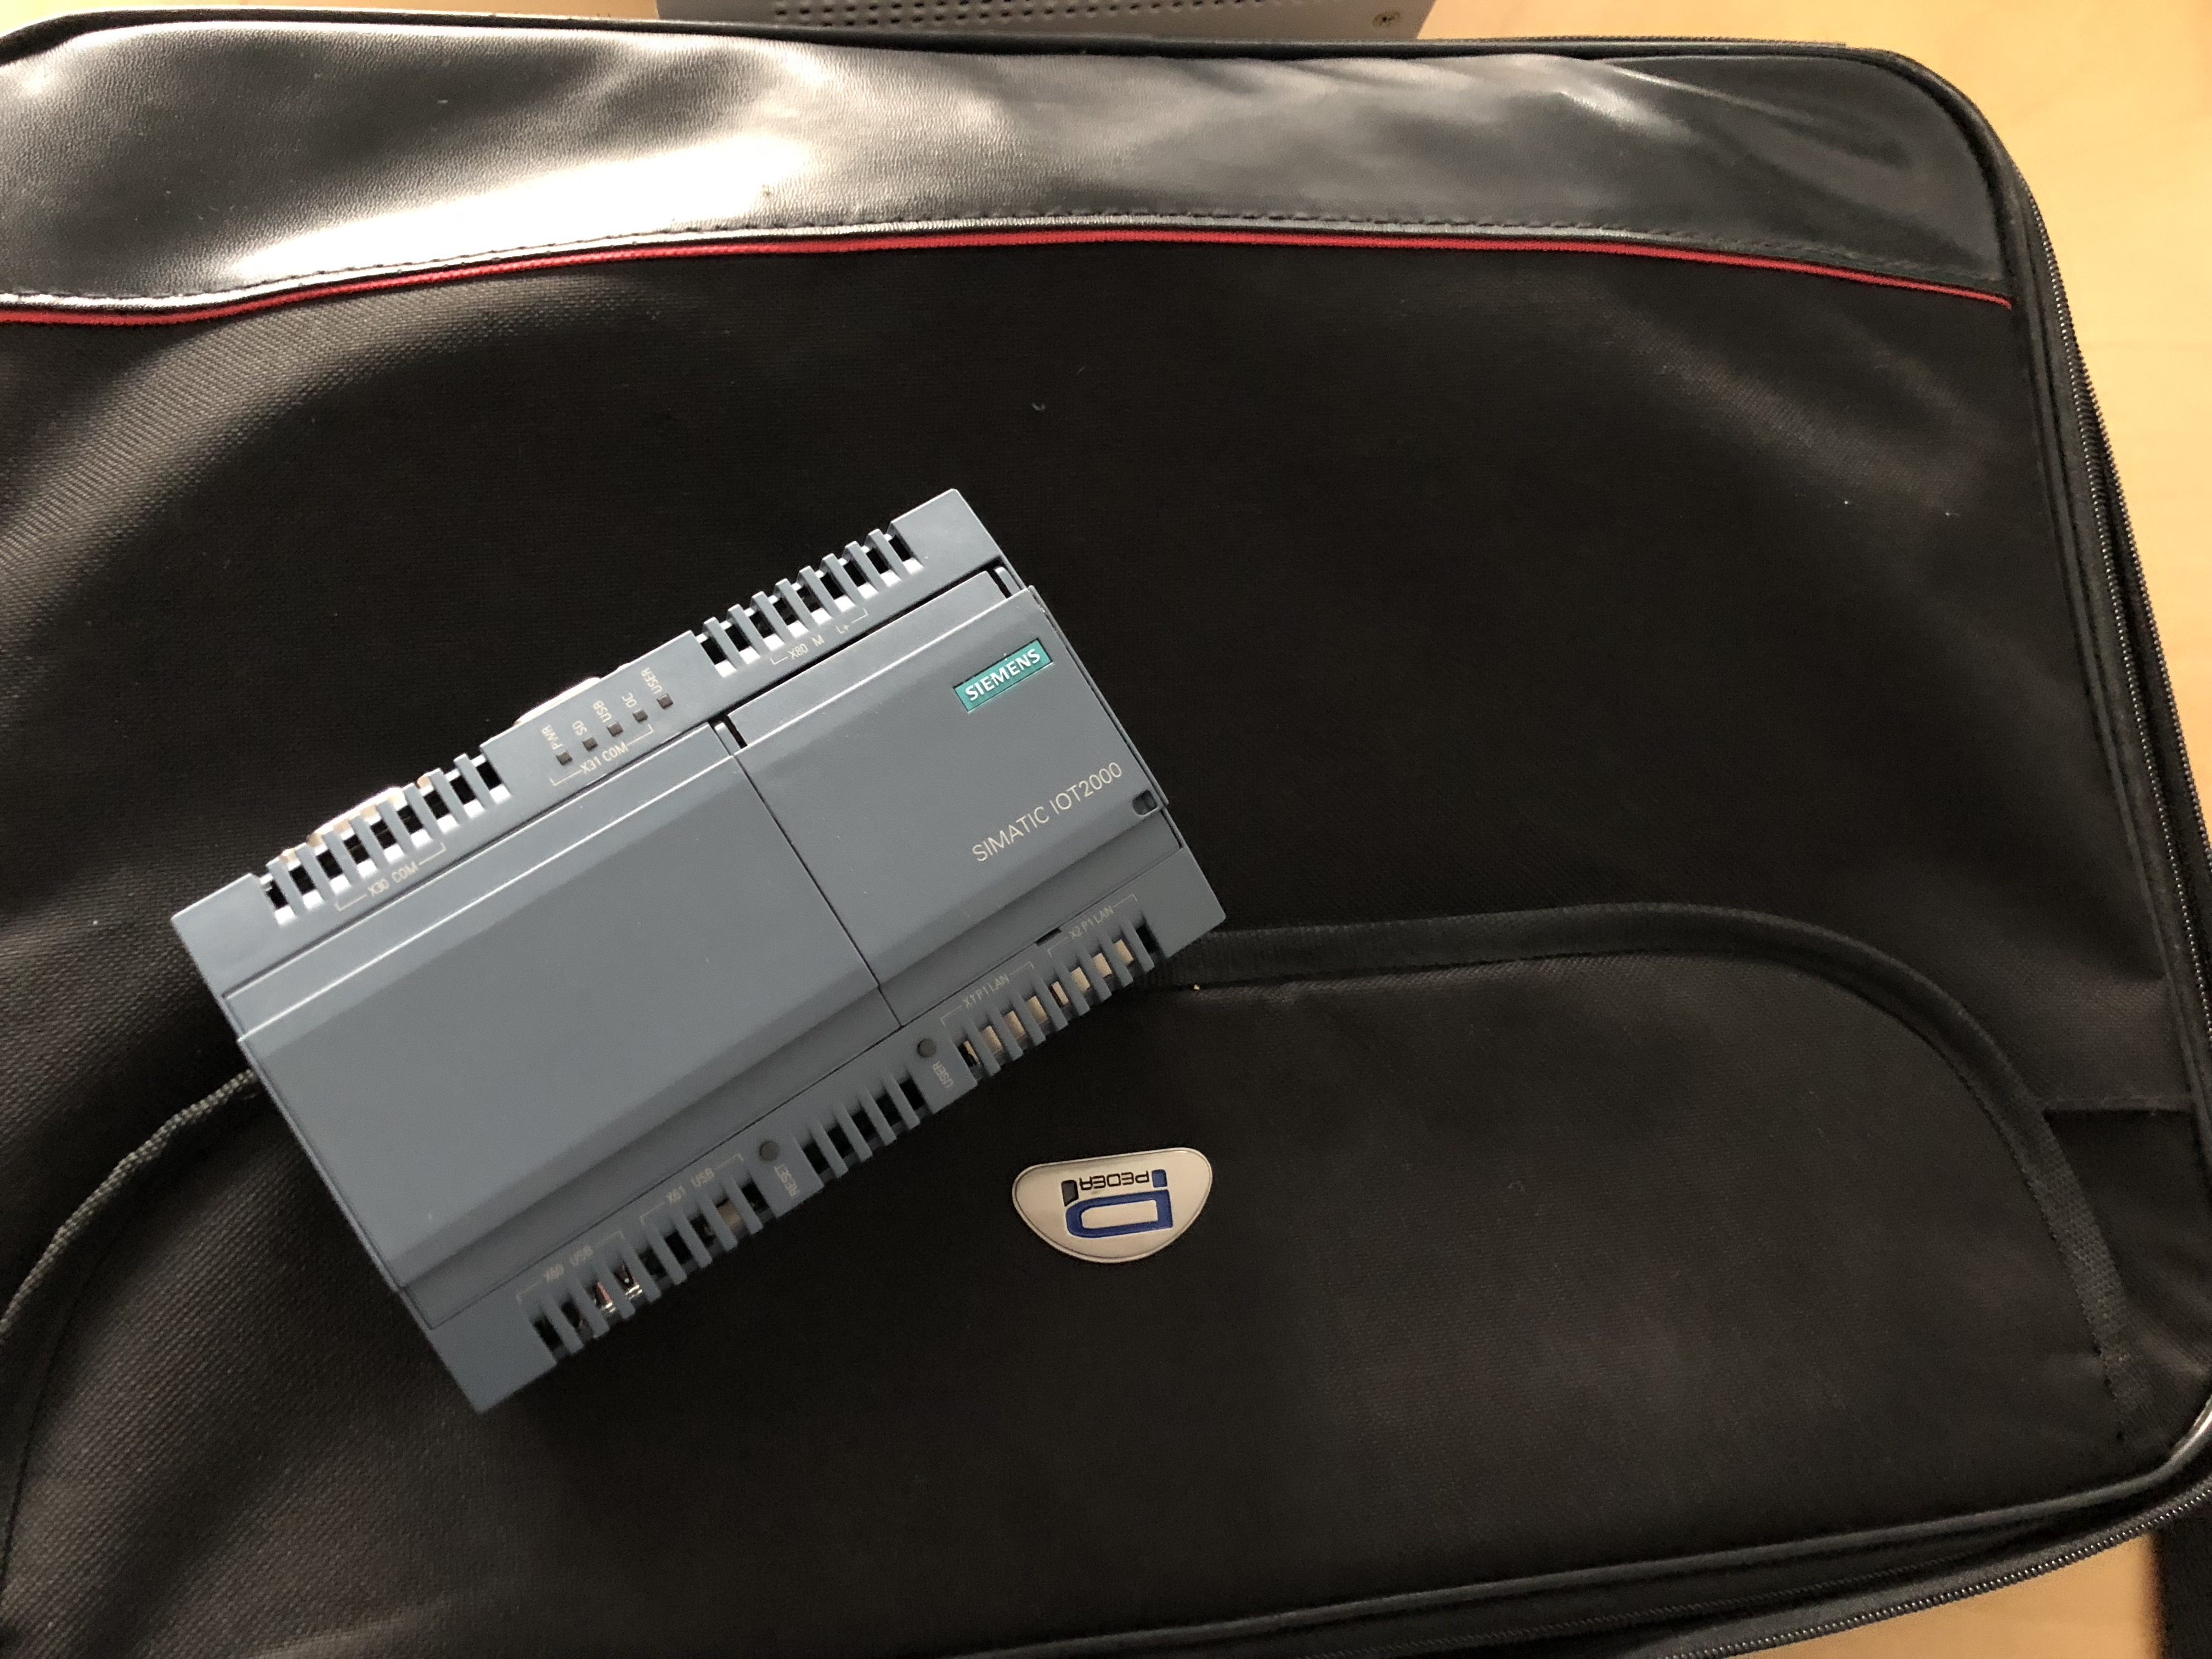device: (171, 488, 1228, 1415)
